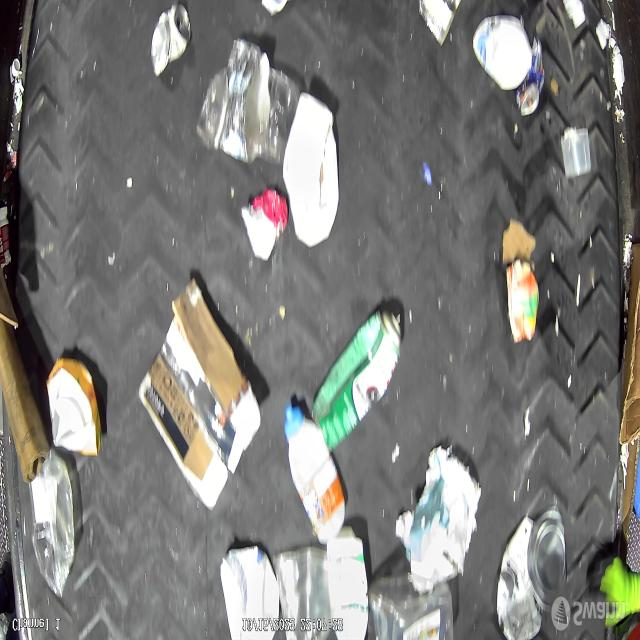can: (311, 309, 402, 452), (498, 512, 569, 640), (151, 4, 190, 78), (517, 32, 547, 117), (416, 1, 459, 47)
milk_jug: (283, 90, 339, 248), (327, 525, 369, 640)
non_white_jug: (220, 543, 282, 639)
plastic_bottle: (29, 450, 75, 599), (368, 572, 454, 640)
